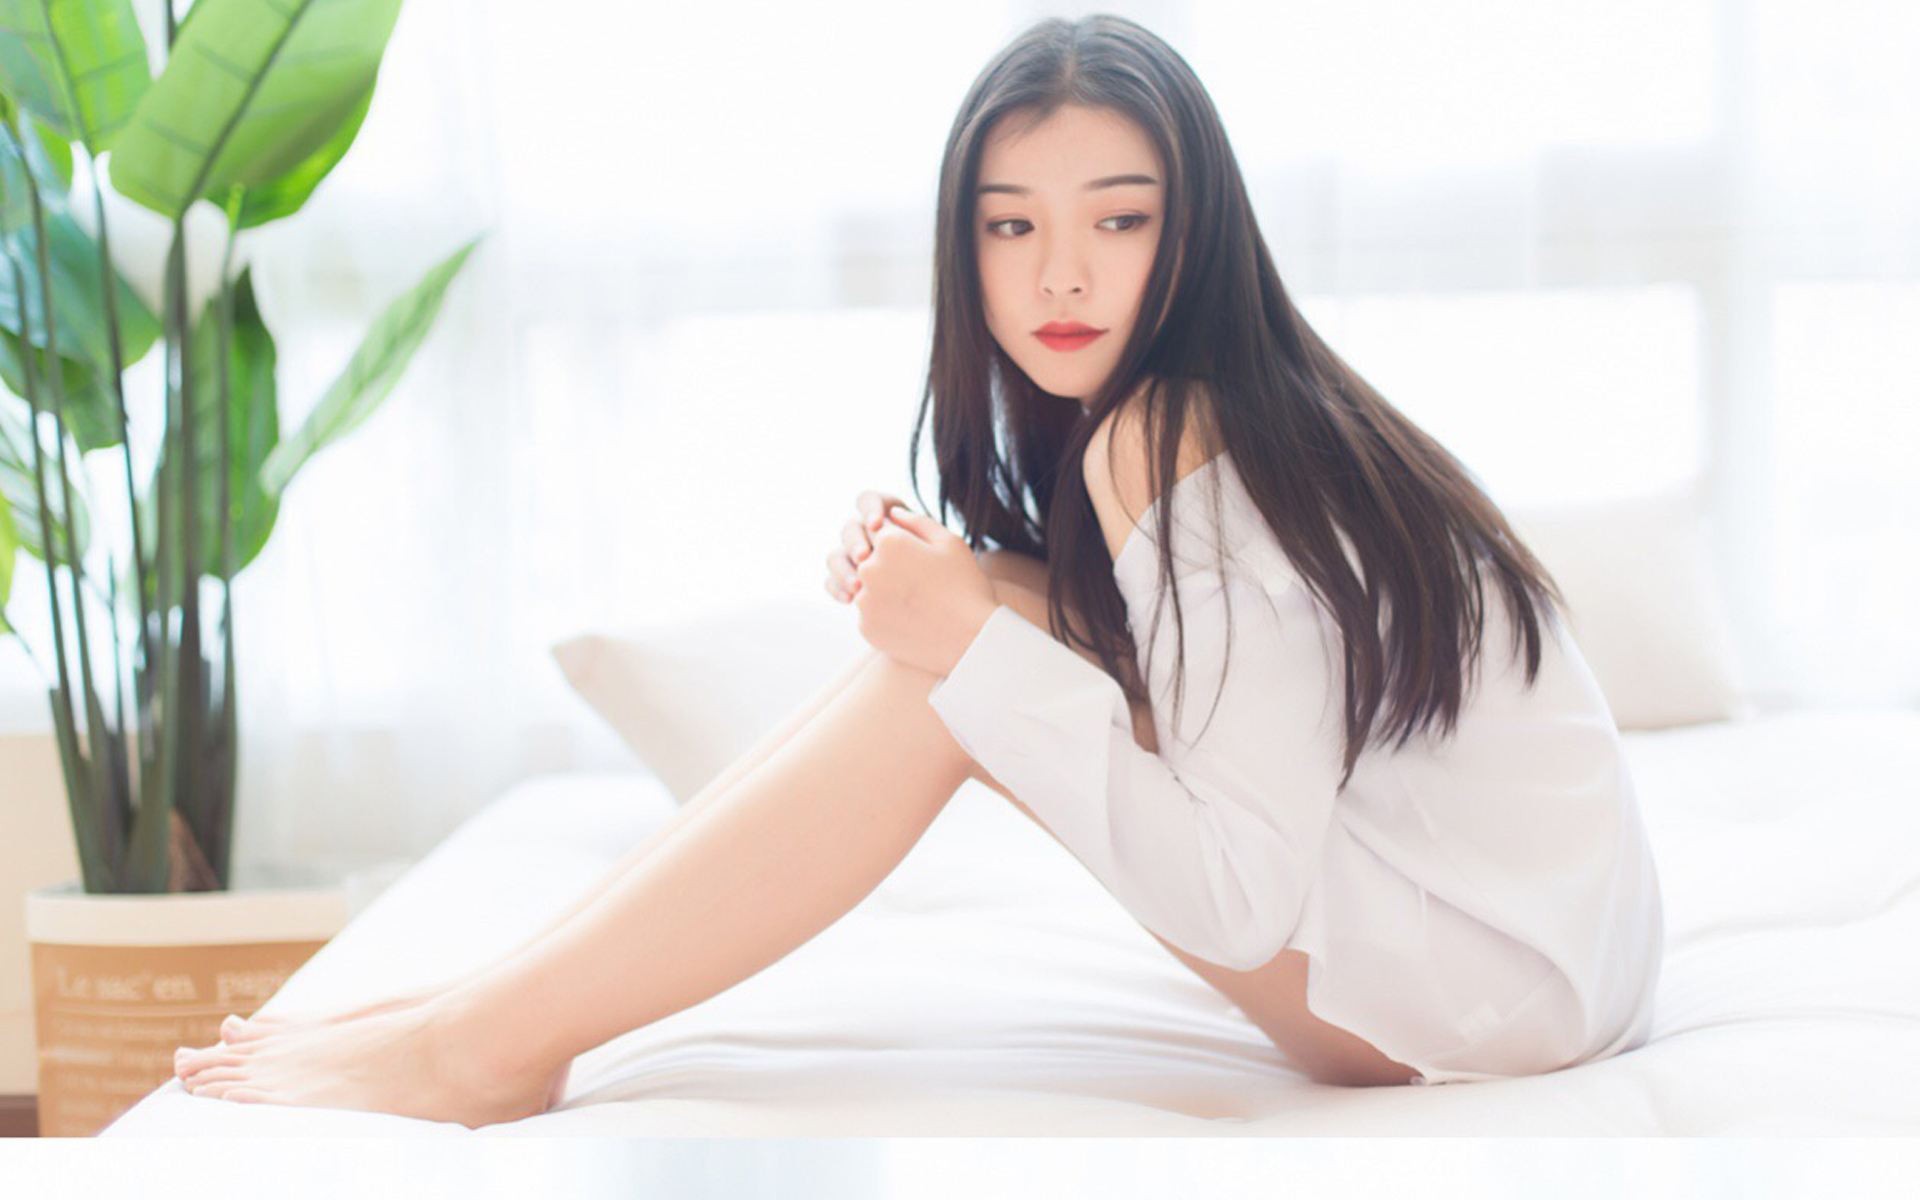person: (736, 5, 1675, 1080)
